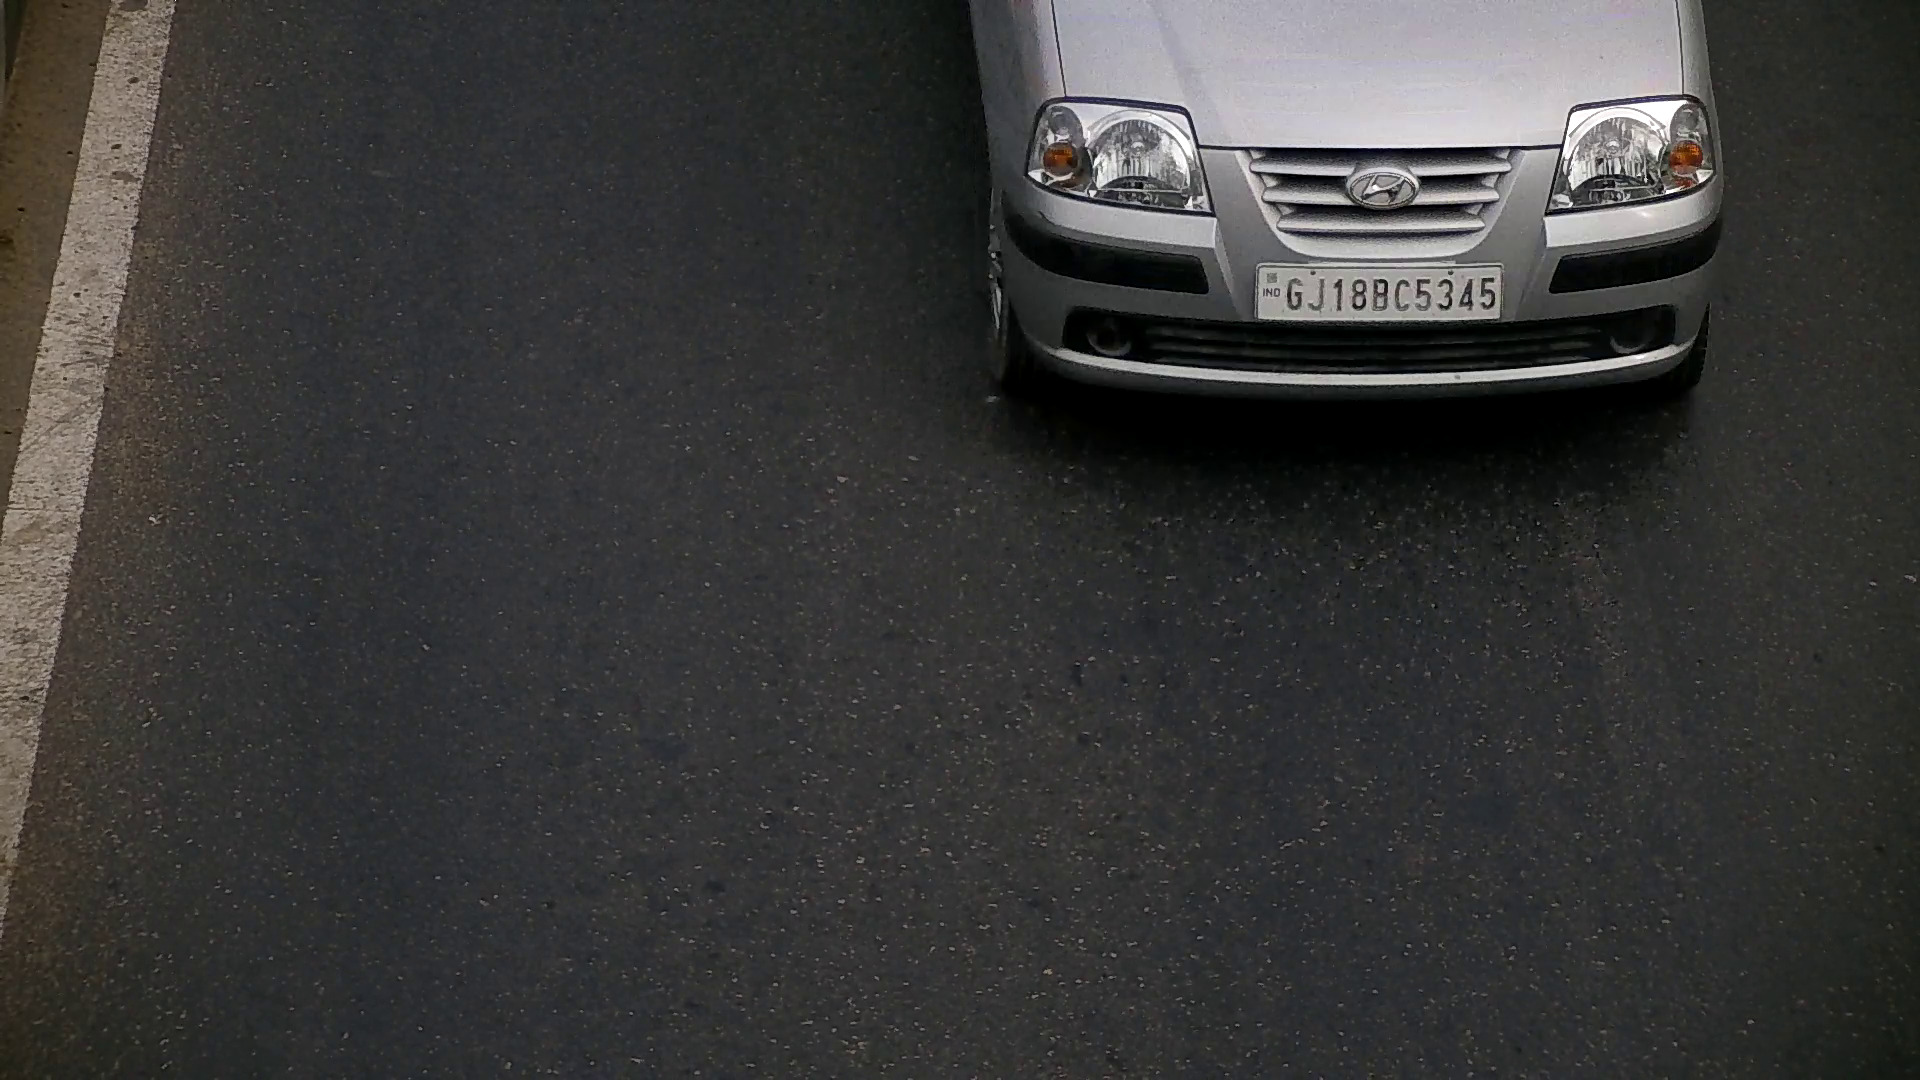numberplate: (1251, 256, 1506, 326)
